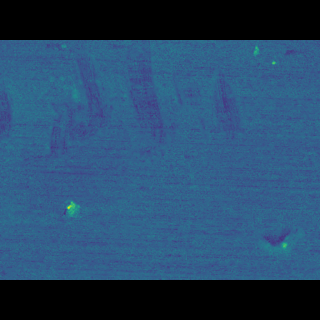Loch: (0, 75, 254, 166)
